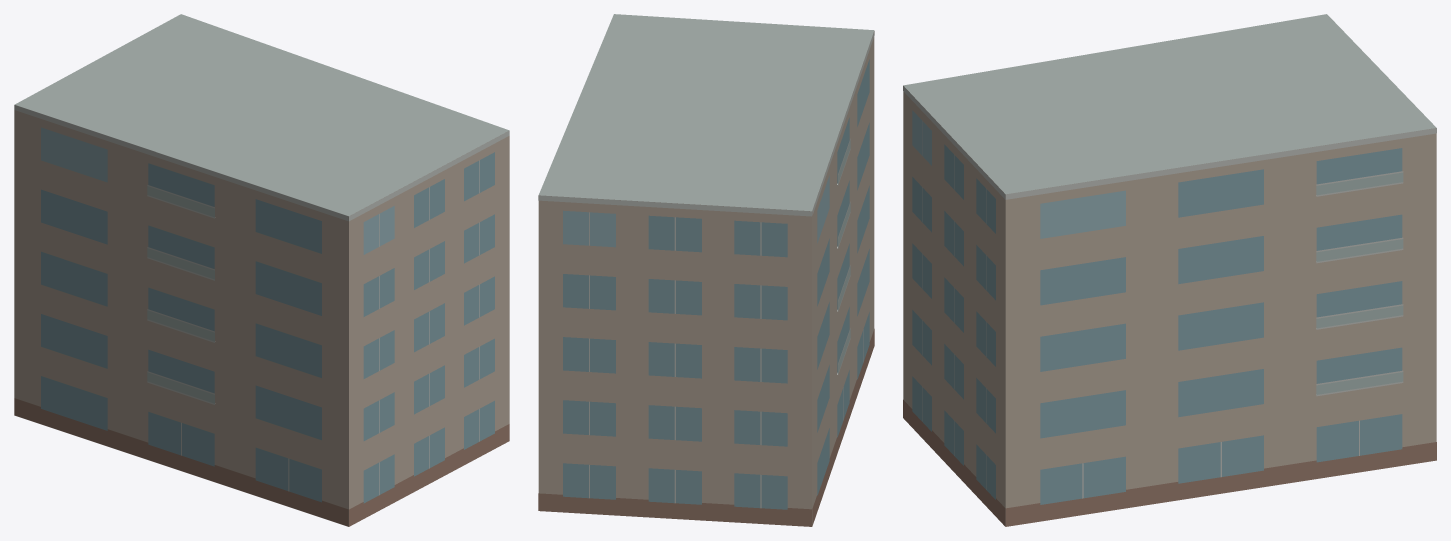
Rendered from survey-upis-32954801.glb.
3 renders of one model, left to right at view 1: azimuth 30°, elevation 25°; view 2: azimuth 150°, elevation 25°; view 3: azimuth 270°, elevation 25°, orthographic. The views are drawn at different scales.
Visible parts, largest first — view 1: survey-upis-32954801.tmp; view 2: survey-upis-32954801.tmp; view 3: survey-upis-32954801.tmp.
Boxes of the visible parts, <box> form: survey-upis-32954801.tmp: <box>14,14,509,526</box>; survey-upis-32954801.tmp: <box>538,14,874,526</box>; survey-upis-32954801.tmp: <box>903,14,1436,526</box>.
Size of the model in its own units: 17.05 by 14.65 by 21.32.
